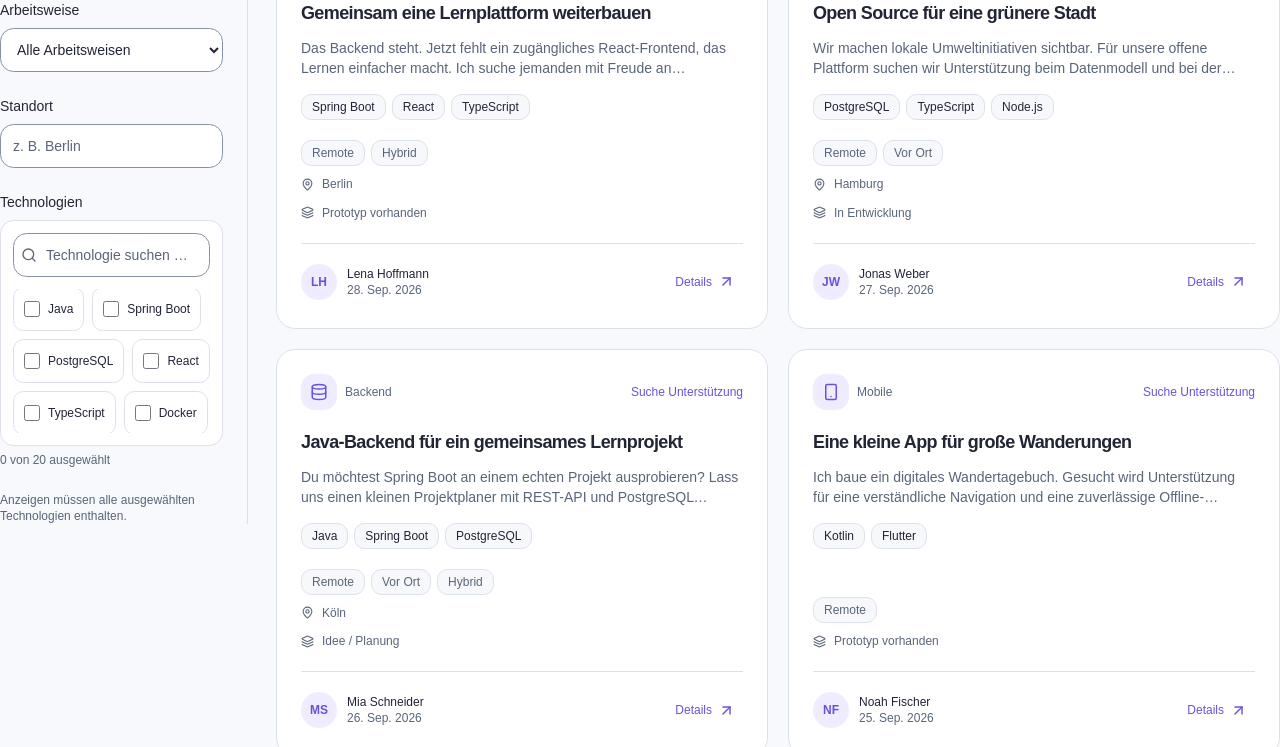
Test: Anzeigen › wendet Suche und Technologie-AND-Filter über HTTP an
(page scrolled)
Expected: the heading "Gemeinsam eine Lernplattform weiterbauen" is shown, top-left (301, 3), bottom-right (651, 23)
Click the checkbox labelled "React" at (151, 361), box top-left (143, 353), bottom-right (159, 369)
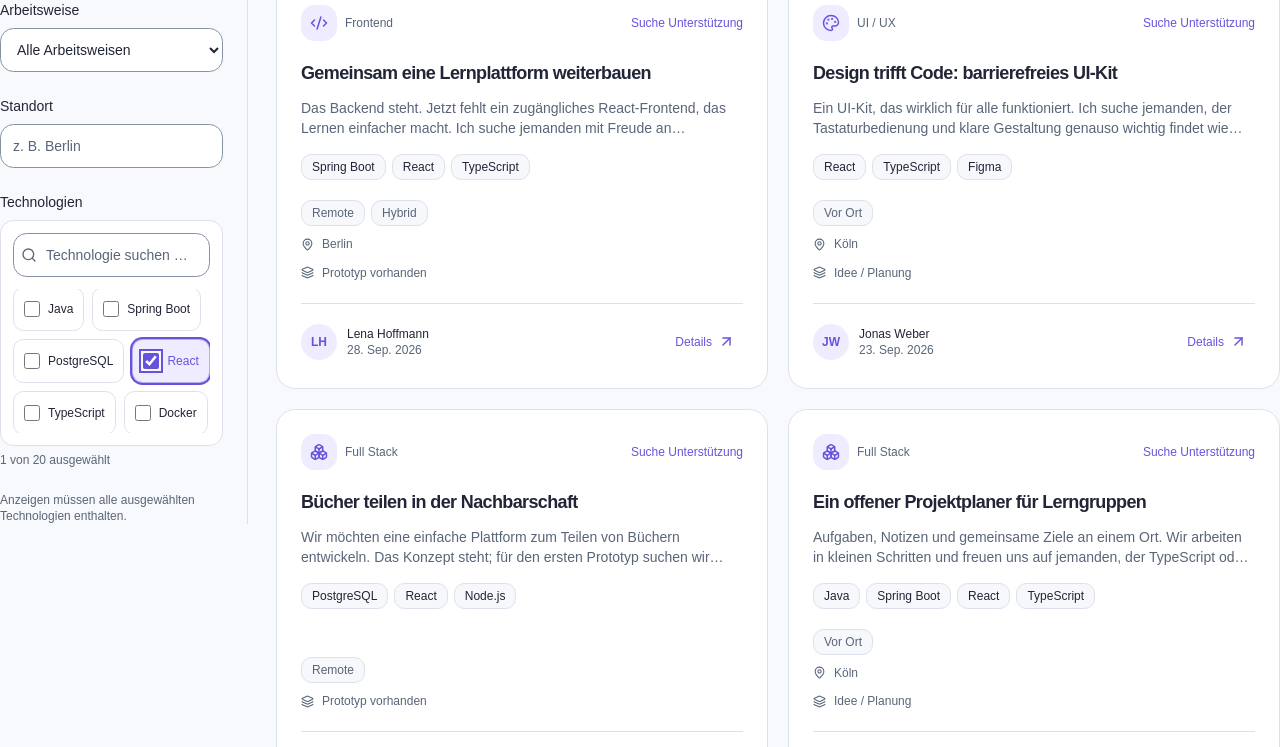
Click the checkbox labelled "Spring Boot" at (111, 309), box top-left (103, 301), bottom-right (119, 317)
(page scrolled)
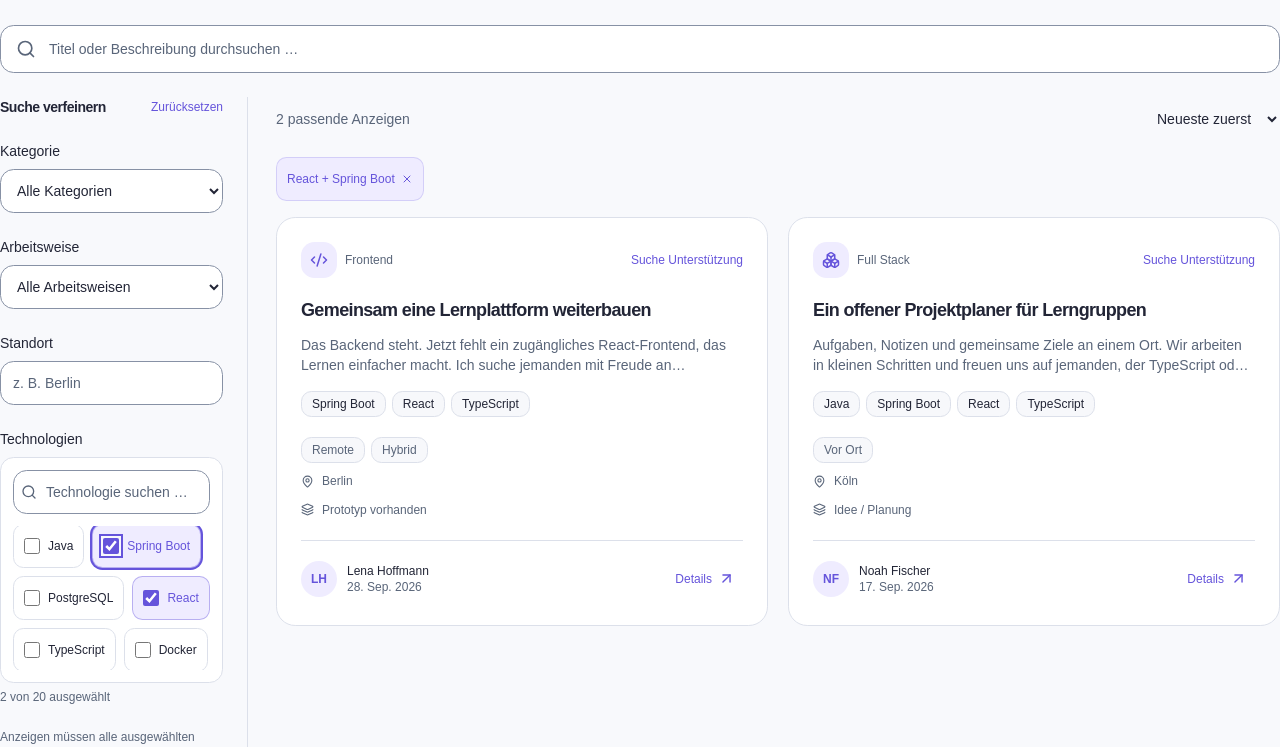
Expected: the link "Open Source für eine grünere Stadt" is not shown
Expected: the text "2 passende Anzeigen" is shown, top-left (276, 109), bottom-right (410, 129)
Type "nirgendwo" into the field named "Anzeigen suchen" at (640, 49), box top-left (0, 25), bottom-right (1279, 73)
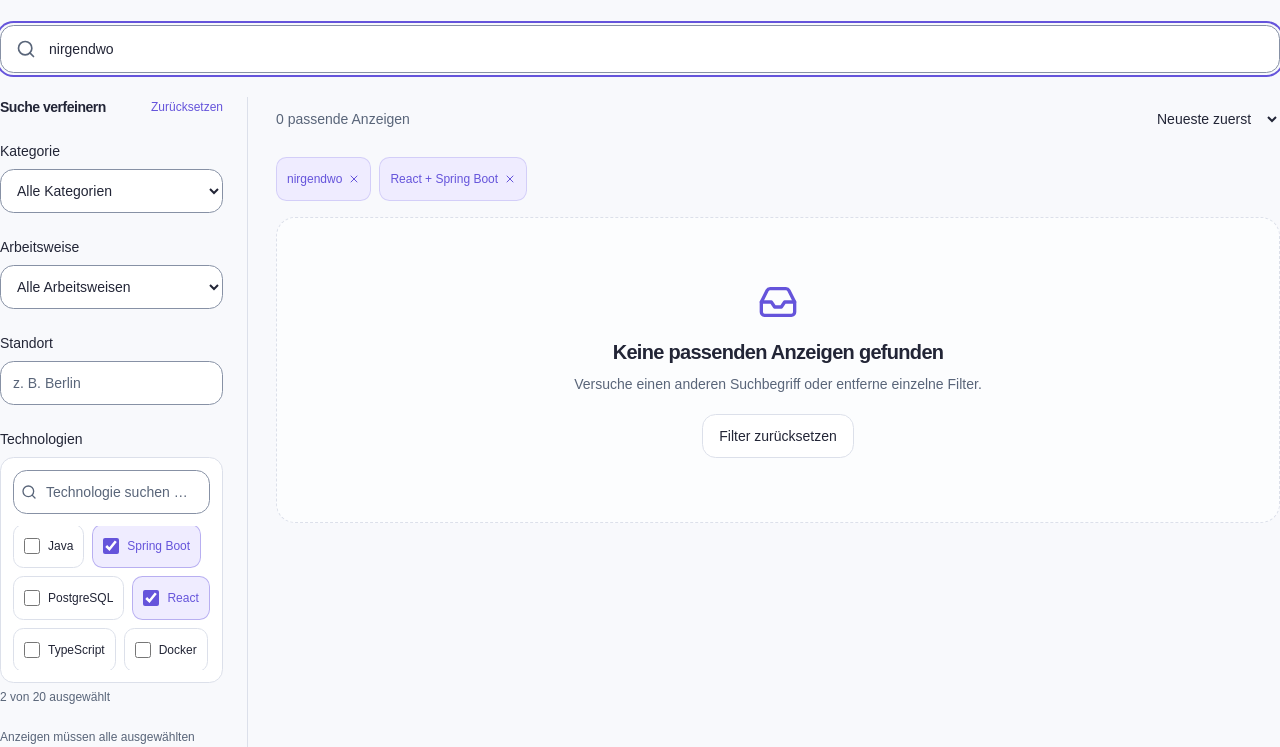
Expected: the heading "Keine passenden Anzeigen gefunden" is shown, top-left (613, 341), bottom-right (943, 363)
Click the button "Filter zurücksetzen" at (778, 436), box top-left (702, 414), bottom-right (854, 458)
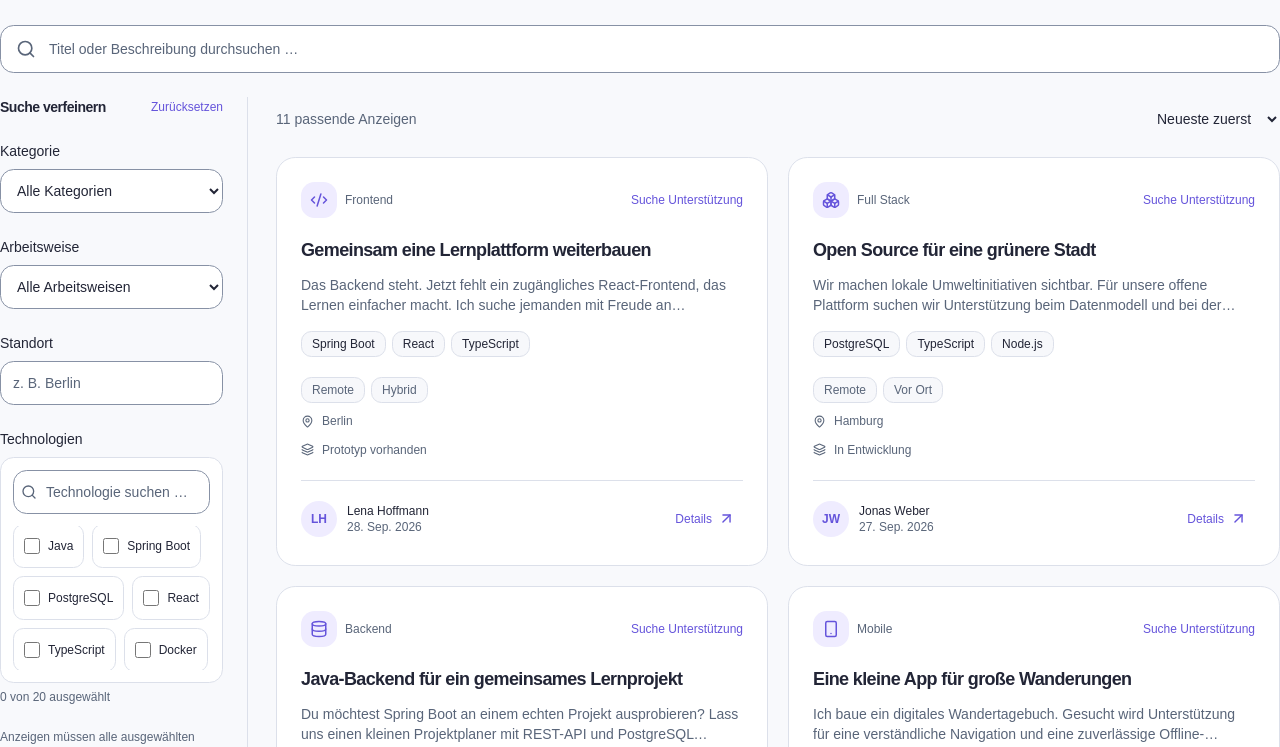
Expected: the heading "Gemeinsam eine Lernplattform weiterbauen" is shown, top-left (301, 240), bottom-right (651, 260)
